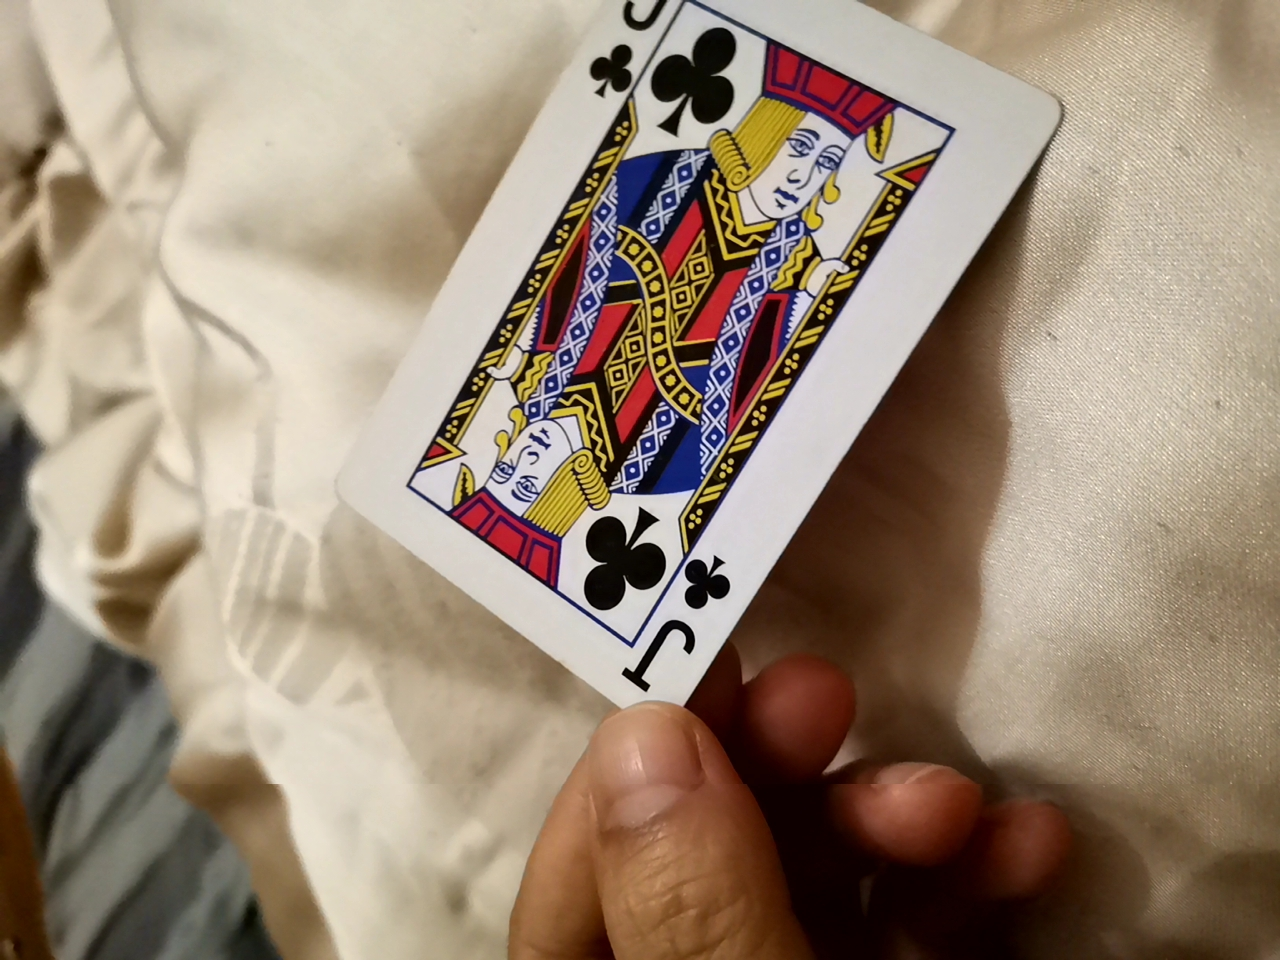mh j: (359, 10, 1065, 725)
